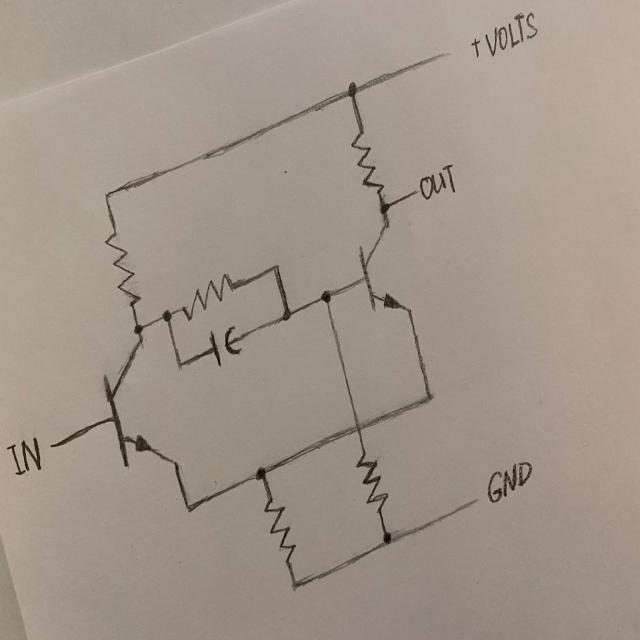capacitor: (203, 324, 252, 368)
crossover: (349, 414, 366, 440)
junction: (417, 380, 439, 413), (376, 527, 397, 556), (317, 283, 337, 312), (250, 457, 270, 486), (343, 75, 363, 103), (177, 494, 198, 520), (286, 577, 310, 599), (158, 300, 176, 328), (278, 302, 295, 327), (172, 353, 189, 376), (376, 199, 394, 220), (130, 320, 148, 338), (268, 256, 284, 276), (99, 185, 116, 203)
resistor: (179, 270, 243, 320), (105, 228, 144, 310), (261, 497, 297, 565), (347, 130, 385, 194), (352, 452, 390, 515)
terminal: (432, 37, 461, 62), (462, 486, 486, 509), (404, 184, 420, 200), (46, 437, 58, 452)
text: (484, 12, 538, 56), (487, 462, 533, 504), (4, 435, 43, 479), (420, 162, 456, 201), (469, 34, 481, 60)
transistor: (98, 337, 178, 469), (359, 225, 418, 324)
